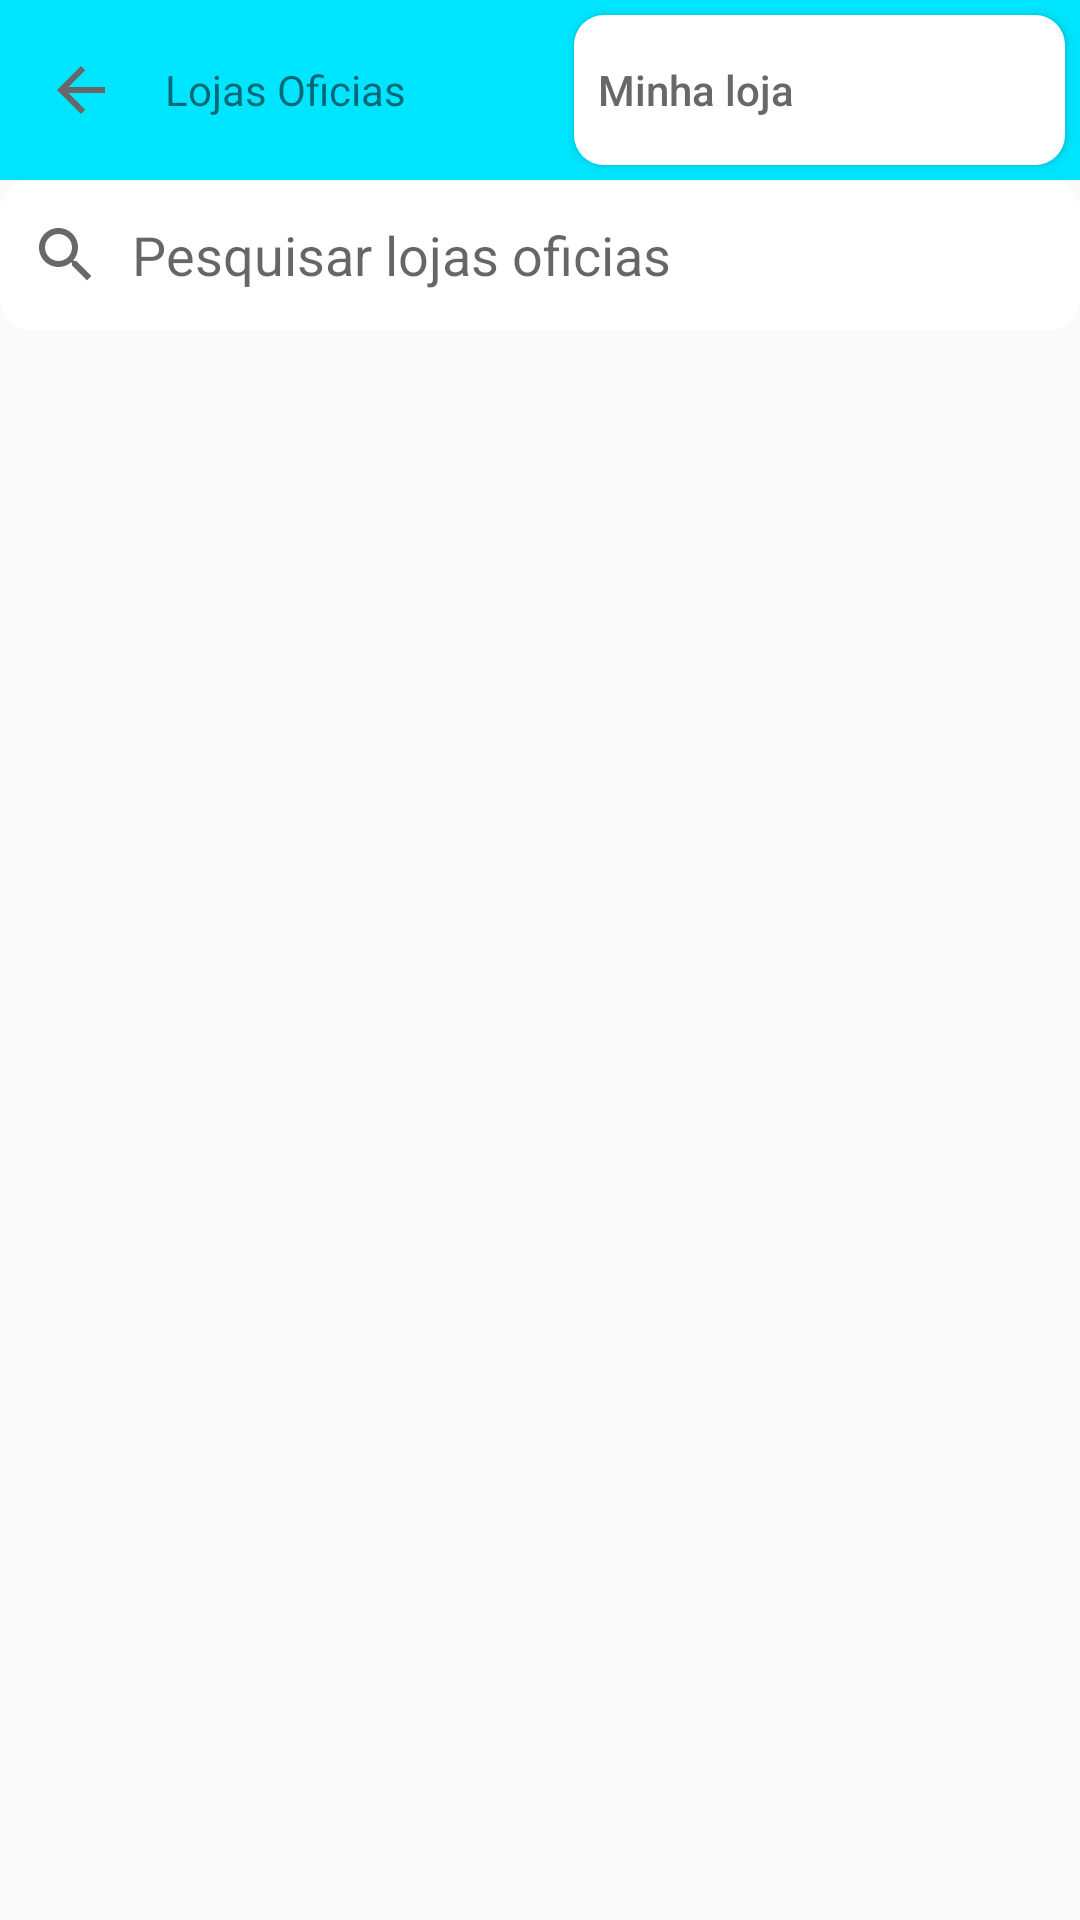

Icon click points for this 1080px×1920px phone screenshot, format (x=x, y=y):
arrow back: (x=81, y=90)
search: (x=65, y=254)
